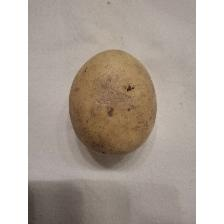Kartoffel: (66, 45, 160, 159)
